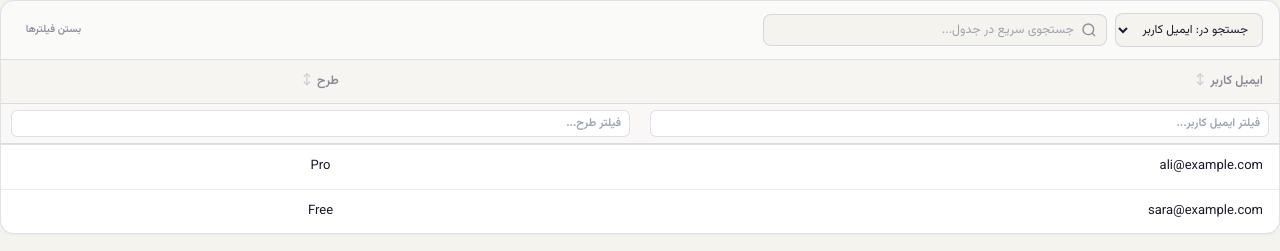
it: AdminTable.vue Component › searches and filters nested fields used by admin tables
Type "sara" into the field with class "search-text-input" at (935, 30), box top-left (763, 14), bottom-right (1107, 46)
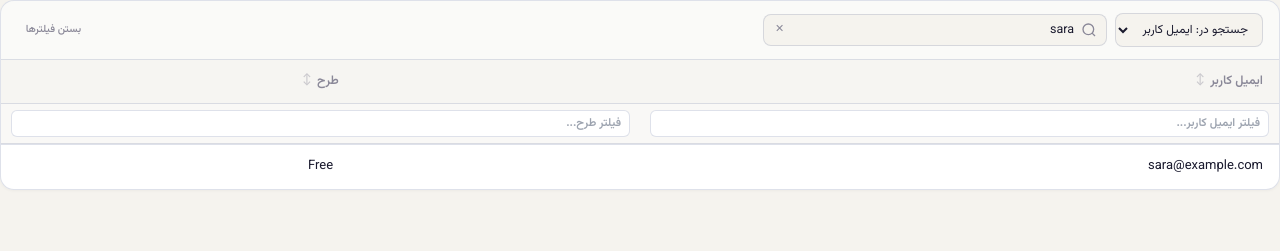
expect the text "sara@example.com" is shown: met, box top-left (640, 144), bottom-right (1279, 188)
expect the number of rows with class "table-row" is 1: met, box top-left (1, 144), bottom-right (1279, 188)
